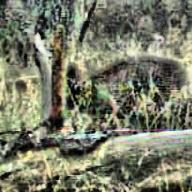boar: (51, 33, 191, 138)
